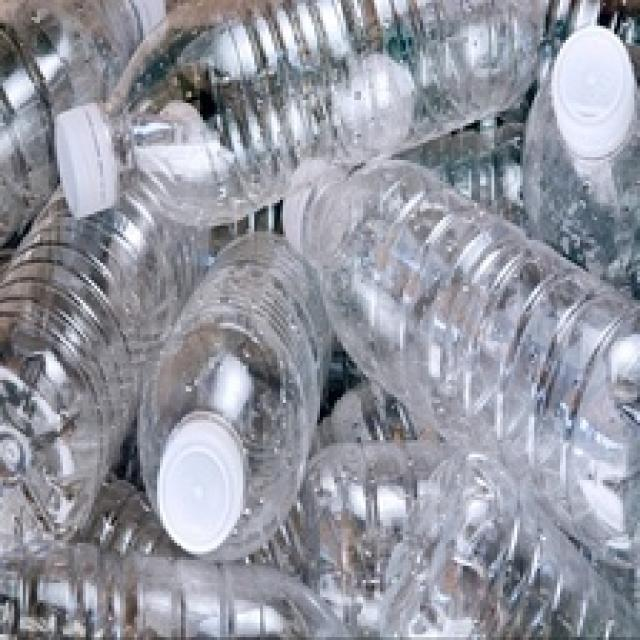Plastic: (285, 155, 640, 572), (54, 0, 540, 229), (0, 184, 215, 570), (133, 235, 334, 564)
